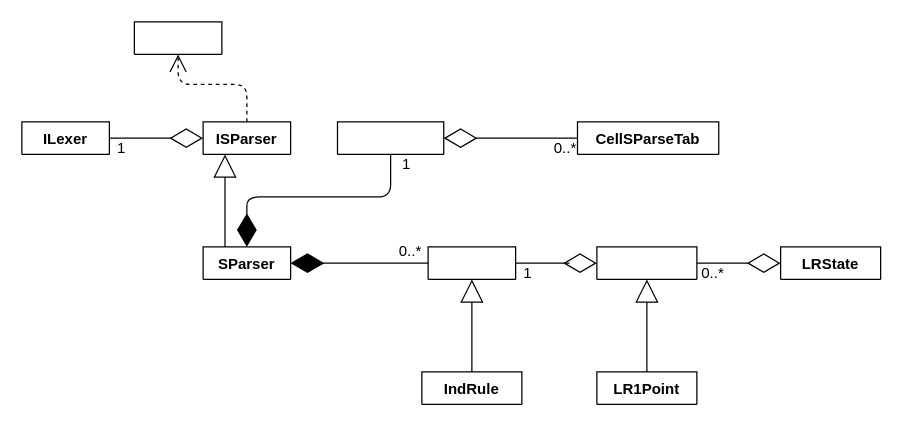
Some shapes in this 903 by 426 pixel diagram are drawn without their labels. The centre of each missing label's shape, as x and y in pixels:
LR0Point: the point at 646,262
Node: the point at 177,37
Rule: the point at 471,262
SParseTab: the point at 390,137
